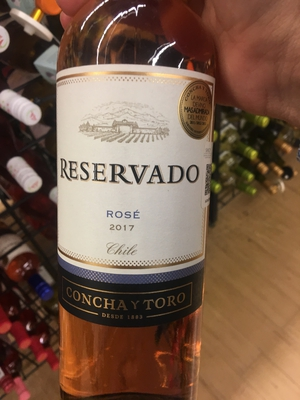reservado rose: (48, 6, 206, 400)
